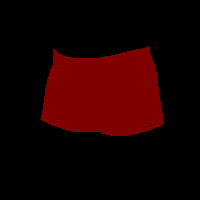mutande: (40, 46, 163, 136)
